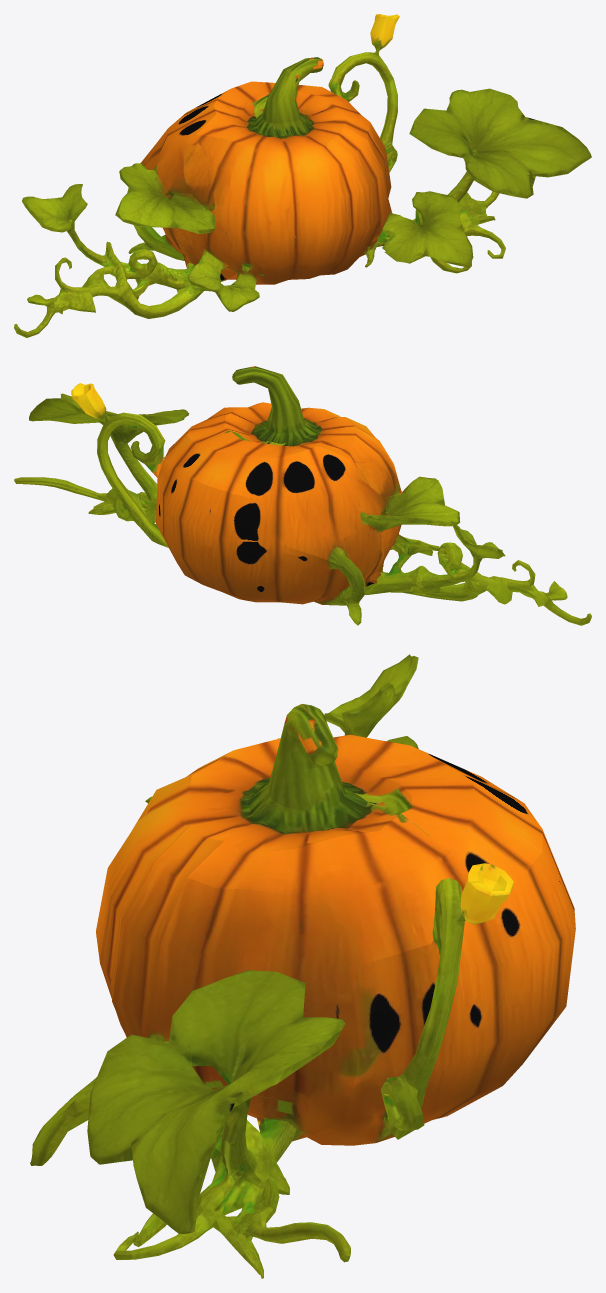
The model's file is pumpkin1.glb.
The picture shows the model from 3 angles, top to bottom: view 1: azimuth 30°, elevation 25°; view 2: azimuth 150°, elevation 25°; view 3: azimuth 270°, elevation 25°; orthographic projection. The views are drawn at different scales.
Parts seen in each view (by area): view 1: Mesh0; view 2: Mesh0; view 3: Mesh0.
Boxes of the visible parts, box(x1,y1,x2,y2) form: Mesh0: box(14, 14, 591, 337); Mesh0: box(14, 366, 591, 625); Mesh0: box(30, 654, 575, 1278).
Bounding box in the file's own units: 1.9 × 0.6767 × 0.7983.
1 material, 1 textured.
